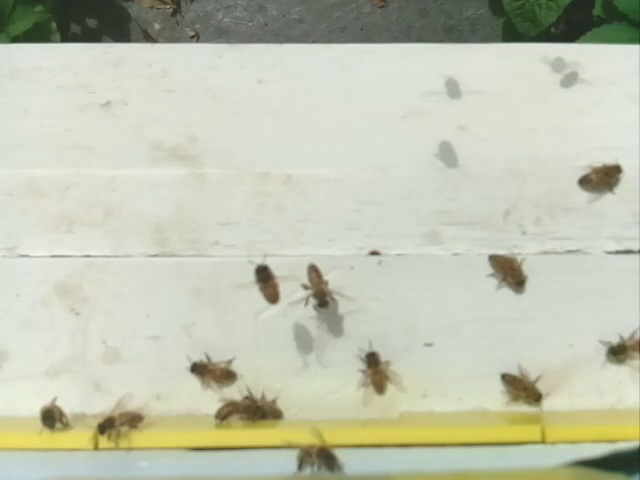bee: (295, 253, 352, 327), (349, 342, 413, 407), (87, 395, 158, 450), (492, 357, 557, 417), (282, 428, 351, 480), (478, 243, 540, 300), (566, 149, 632, 202), (181, 346, 246, 398), (244, 248, 292, 316), (595, 320, 640, 365), (247, 382, 285, 429), (37, 392, 74, 437), (211, 397, 259, 428)
